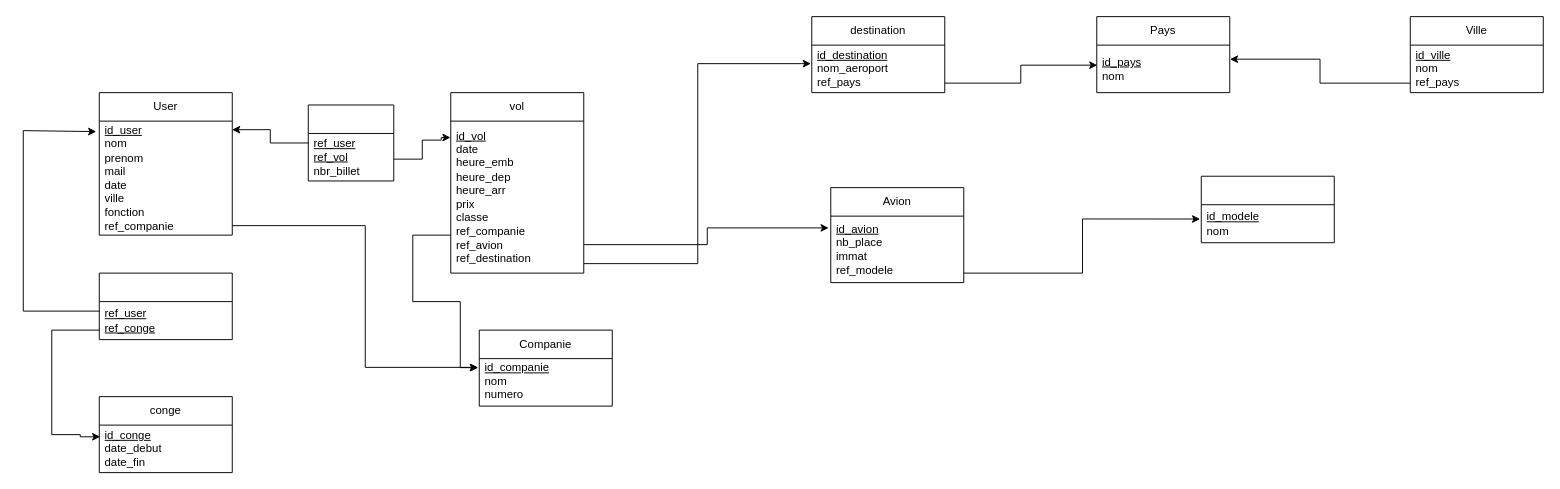
The diagram is 1560 pixels wide and 489 high, and some of its shapes have lost their labels. The shapes that lost their labels are listed below. From the top down, each one's box as (x1, y1, x2, y2) in pixels, then its label:
(307, 104, 394, 181): UserVol
(1200, 175, 1334, 243): Modèle
(98, 272, 232, 340): UserConge
